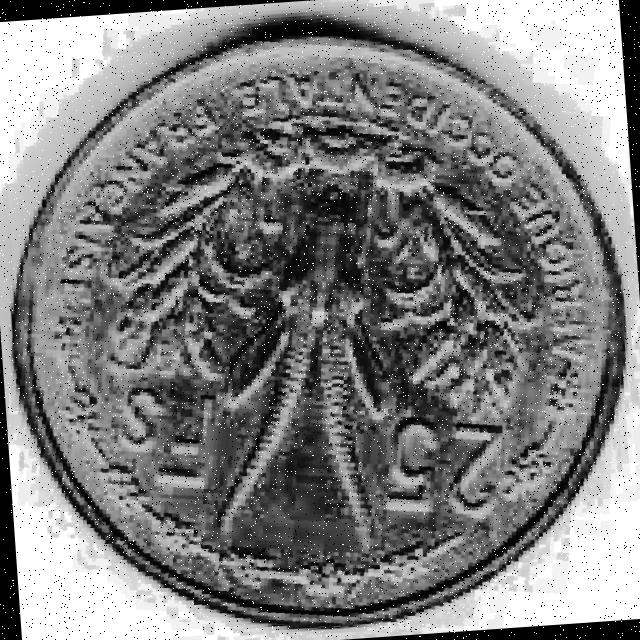juroom derem: (16, 41, 622, 625)
